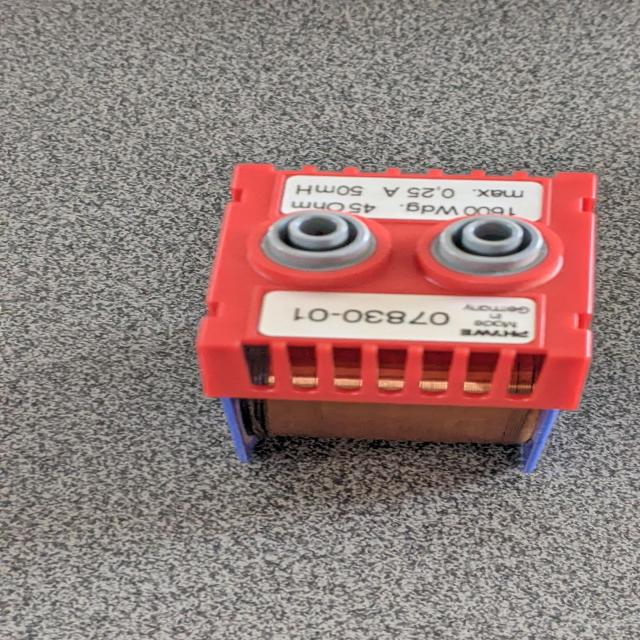Solenoid: (174, 158, 613, 484)
